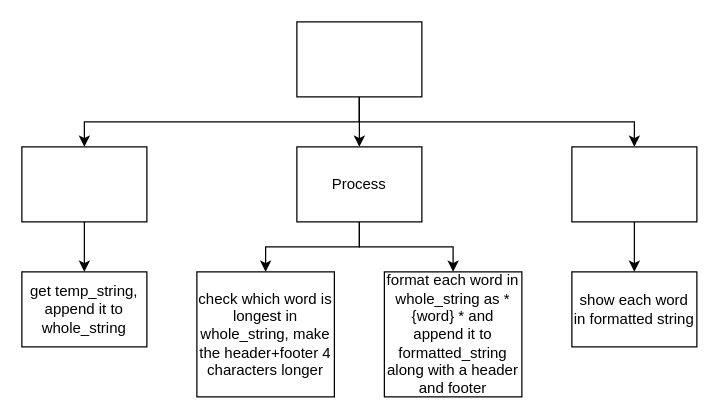
The diagram is 719 pixels wide and 419 high, and some of its shapes have lost their labels. Each missing label, with the centre of its shape:
Input: [84,184]
Output: [634,184]
Text Formatter: [359,59]
